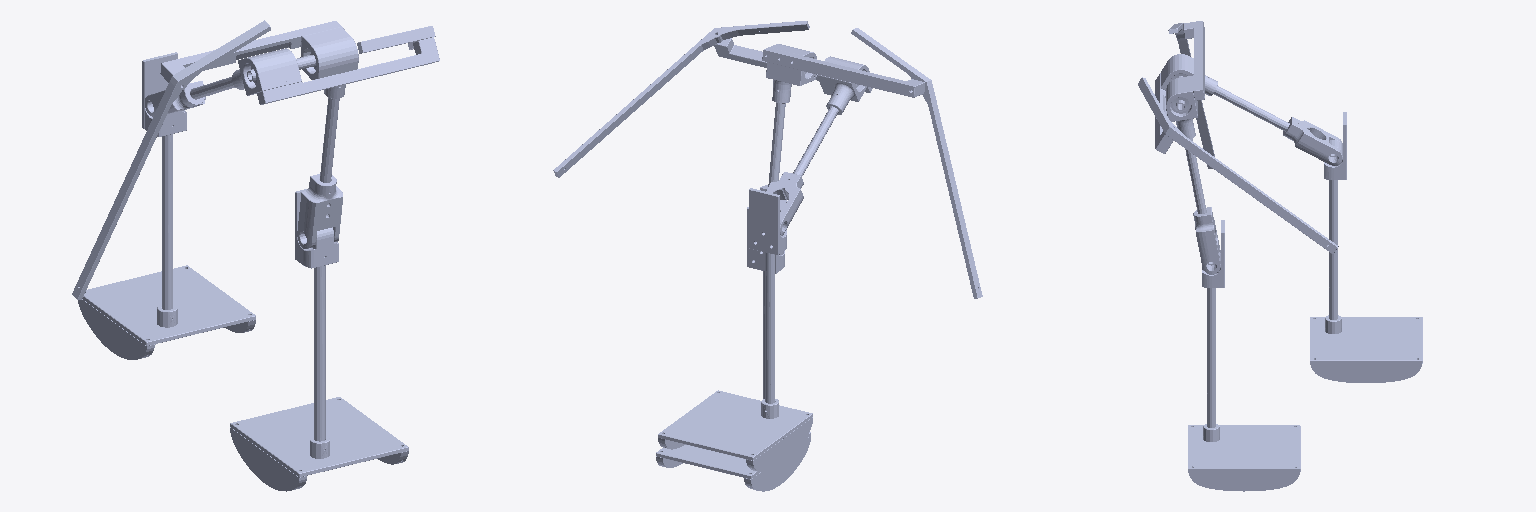
robot.urdf — walker_design_2:
<?xml version="1.0" encoding="utf-8"?>
<!-- This URDF was automatically created by SolidWorks to URDF Exporter! Originally created by [author] ([email redacted]) 
     Commit Version: 1.6.0-4-g7f85cfe  Build Version: 1.6.7995.38578
     For more information, please see http://wiki.ros.org/sw_urdf_exporter -->
<robot
  name="walker_design_2">
  <link
    name="right_lower_leg_link">
    <inertial>
      <origin
        xyz="-0.061505 -0.0080541 0.06441"
        rpy="0 0 0" />
      <mass
        value="0.12388" />
      <inertia
        ixx="0.00012842"
        ixy="-1.7409E-06"
        ixz="4.6599E-07"
        iyy="8.2257E-05"
        iyz="8.2871E-07"
        izz="0.00015824" />
    </inertial>
    <visual>
      <origin
        xyz="0 0 0"
        rpy="0 0 0" />
      <geometry>
        <mesh
          filename="package://walker_design_2/meshes/right_lower_leg_link.STL" />
      </geometry>
      <material
        name="">
        <color
          rgba="0.79216 0.81961 0.93333 1" />
      </material>
    </visual>
    <collision>
      <origin
        xyz="0 0 0"
        rpy="0 0 0" />
      <geometry>
        <mesh
          filename="package://walker_design_2/meshes/right_lower_leg_link.STL" />
      </geometry>
    </collision>
  </link>
  <link
    name="right_upper_leg_link">
    <inertial>
      <origin
        xyz="-0.056283 0.0050019 0.14149"
        rpy="0 0 0" />
      <mass
        value="0.1014" />
      <inertia
        ixx="0.00011429"
        ixy="-1.4716E-06"
        ixz="-4.9936E-05"
        iyy="0.00021518"
        iyz="-4.8791E-07"
        izz="0.00010974" />
    </inertial>
    <visual>
      <origin
        xyz="0 0 0"
        rpy="0 0 0" />
      <geometry>
        <mesh
          filename="package://walker_design_2/meshes/right_upper_leg_link.STL" />
      </geometry>
      <material
        name="">
        <color
          rgba="0.79216 0.81961 0.93333 1" />
      </material>
    </visual>
    <collision>
      <origin
        xyz="0 0 0"
        rpy="0 0 0" />
      <geometry>
        <mesh
          filename="package://walker_design_2/meshes/right_upper_leg_link.STL" />
      </geometry>
    </collision>
  </link>
  <joint
    name="right_knee_joint"
    type="revolute">
    <origin
      xyz="-0.069 -0.035 0.23789"
      rpy="0.17453 0 0" />
    <parent
      link="right_lower_leg_link" />
    <child
      link="right_upper_leg_link" />
    <axis
      xyz="1 0 0" />
    <limit
      lower="0"
      upper="1.57"
      effort="0"
      velocity="0" />
  </joint>
  <link
    name="right_hip_link">
    <inertial>
      <origin
        xyz="-0.05 -5.5511E-17 -3.4694E-17"
        rpy="0 0 0" />
      <mass
        value="0.0028274" />
      <inertia
        ixx="5.7962E-08"
        ixy="-2.5837E-21"
        ixz="-1.7596E-21"
        iyy="2.3852E-06"
        iyz="4.702E-38"
        izz="2.3852E-06" />
    </inertial>
    <visual>
      <origin
        xyz="0 0 0"
        rpy="0 0 0" />
      <geometry>
        <mesh
          filename="package://walker_design_2/meshes/right_hip_link.STL" />
      </geometry>
      <material
        name="">
        <color
          rgba="0.79216 0.81961 0.93333 1" />
      </material>
    </visual>
    <collision>
      <origin
        xyz="0 0 0"
        rpy="0 0 0" />
      <geometry>
        <mesh
          filename="package://walker_design_2/meshes/right_hip_link.STL" />
      </geometry>
    </collision>
  </link>
  <joint
    name="right_hip_joint"
    type="revolute">
    <origin
      xyz="0.0052304 0 0.188"
      rpy="-0.17453 0 0" />
    <parent
      link="right_upper_leg_link" />
    <child
      link="right_hip_link" />
    <axis
      xyz="-1 0 0" />
    <limit
      lower="0"
      upper="0"
      effort="0"
      velocity="0" />
  </joint>
  <link
    name="left_hip_link">
    <inertial>
      <origin
        xyz="0.06164 0.037773 -0.027522"
        rpy="0 0 0" />
      <mass
        value="0.1014" />
      <inertia
        ixx="0.00011296"
        ixy="-4.4634E-05"
        ixz="2.407E-05"
        iyy="0.0001368"
        iyz="4.491E-05"
        izz="0.00018945" />
    </inertial>
    <visual>
      <origin
        xyz="0 0 0"
        rpy="0 0 0" />
      <geometry>
        <mesh
          filename="package://walker_design_2/meshes/left_hip_link.STL" />
      </geometry>
      <material
        name="">
        <color
          rgba="0.79216 0.81961 0.93333 1" />
      </material>
    </visual>
    <collision>
      <origin
        xyz="0 0 0"
        rpy="0 0 0" />
      <geometry>
        <mesh
          filename="package://walker_design_2/meshes/left_hip_link.STL" />
      </geometry>
    </collision>
  </link>
  <joint
    name="left_hip_joint"
    type="revolute">
    <origin
      xyz="-0.1 0 0"
      rpy="0 0 0" />
    <parent
      link="right_hip_link" />
    <child
      link="left_hip_link" />
    <axis
      xyz="-1 0 0" />
    <limit
      lower="0"
      upper="0"
      effort="0"
      velocity="0" />
  </joint>
  <link
    name="left_lower_leg_link">
    <inertial>
      <origin
        xyz="0.010495 -0.13677 -0.11008"
        rpy="0 0 0" />
      <mass
        value="0.12388" />
      <inertia
        ixx="0.00012842"
        ixy="-4.669E-07"
        ixz="1.7407E-06"
        iyy="0.00013996"
        iyz="3.2486E-05"
        izz="0.00010053" />
    </inertial>
    <visual>
      <origin
        xyz="0 0 0"
        rpy="0 0 0" />
      <geometry>
        <mesh
          filename="package://walker_design_2/meshes/left_lower_leg_link.STL" />
      </geometry>
      <material
        name="">
        <color
          rgba="0.79216 0.81961 0.93333 1" />
      </material>
    </visual>
    <collision>
      <origin
        xyz="0 0 0"
        rpy="0 0 0" />
      <geometry>
        <mesh
          filename="package://walker_design_2/meshes/left_lower_leg_link.STL" />
      </geometry>
    </collision>
  </link>
  <joint
    name="left_knee_joint"
    type="revolute">
    <origin
      xyz="0.014226 0.16281 -0.094"
      rpy="1.0472 0 0" />
    <parent
      link="left_hip_link" />
    <child
      link="left_lower_leg_link" />
    <axis
      xyz="1 0 0" />
    <limit
      lower="0"
      upper="1.57"
      effort="0"
      velocity="0" />
  </joint>
</robot>

--- Render facts (derived) ---
The picture shows the robot from 3 angles, left to right: view 1: azimuth 30°, elevation 25°; view 2: azimuth 150°, elevation 25°; view 3: azimuth 270°, elevation 25°; orthographic projection.
Model walker_design_2 with 5 links and 4 joints (4 revolute), rooted at right_lower_leg_link, posed all joints at 0.
Links seen in each view (by area): view 1: left_lower_leg_link, right_lower_leg_link, right_upper_leg_link, left_hip_link; view 2: left_lower_leg_link, right_upper_leg_link, left_hip_link, right_lower_leg_link; view 3: right_lower_leg_link, left_lower_leg_link, left_hip_link, right_upper_leg_link.
Boxes of the visible links, box(x1,y1,x2,y2) form: left_lower_leg_link: box(78, 52, 255, 359); right_lower_leg_link: box(230, 189, 408, 491); right_upper_leg_link: box(72, 20, 358, 299); left_hip_link: box(145, 26, 439, 116); left_lower_leg_link: box(658, 188, 812, 472); right_upper_leg_link: box(760, 28, 982, 298); left_hip_link: box(553, 21, 872, 235); right_lower_leg_link: box(656, 207, 810, 491); right_lower_leg_link: box(1188, 220, 1300, 491); left_lower_leg_link: box(1310, 112, 1422, 382); left_hip_link: box(1138, 54, 1342, 253); right_upper_leg_link: box(1166, 21, 1220, 274).
Size in the robot's own frame: 0.4149 by 0.3042 by 0.4814 metres.
Meshes: 5 distinct files referenced, 5 mesh visuals loaded (5 binary STL).